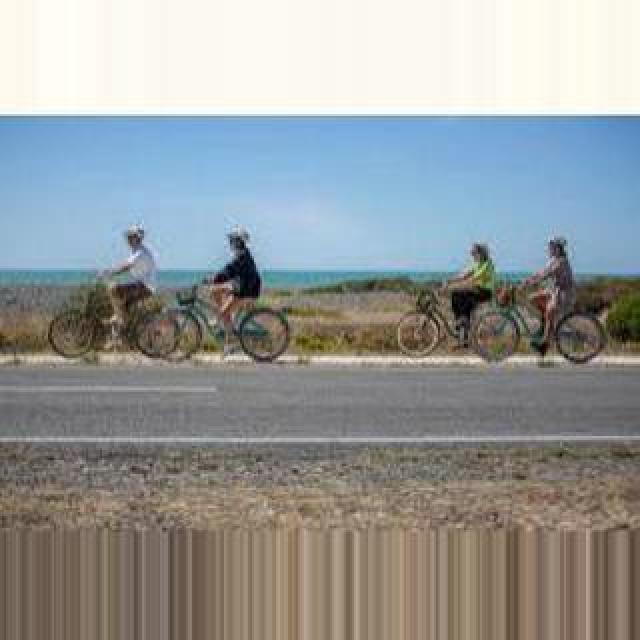MC-Bike: (514, 234, 576, 358), (94, 222, 158, 342), (204, 224, 262, 332), (444, 240, 496, 348)
Person: (49, 278, 187, 362), (472, 280, 598, 366), (170, 282, 294, 364), (398, 285, 492, 357)
